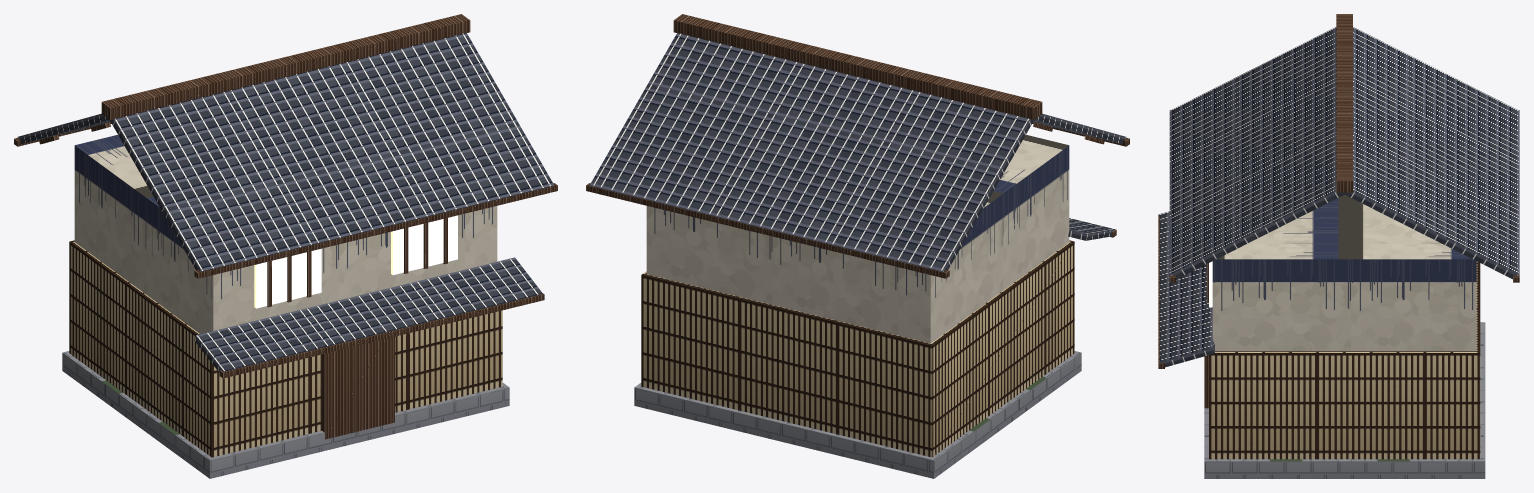
The model's file is kyoto_machiya.glb.
3 renders of one model, left to right at view 1: azimuth 30°, elevation 25°; view 2: azimuth 150°, elevation 25°; view 3: azimuth 270°, elevation 25°, orthographic. The views are drawn at different scales.
Visible parts, largest first — view 1: kyoto_machiya; view 2: kyoto_machiya; view 3: kyoto_machiya.
Part boxes in pixels (x1,y1,x2,y2): kyoto_machiya: [14, 14, 557, 478]; kyoto_machiya: [586, 14, 1129, 478]; kyoto_machiya: [1158, 14, 1519, 478].
Size of the model in its own units: 8.17 by 7.1 by 7.46.
6 materials, 5 textured.
